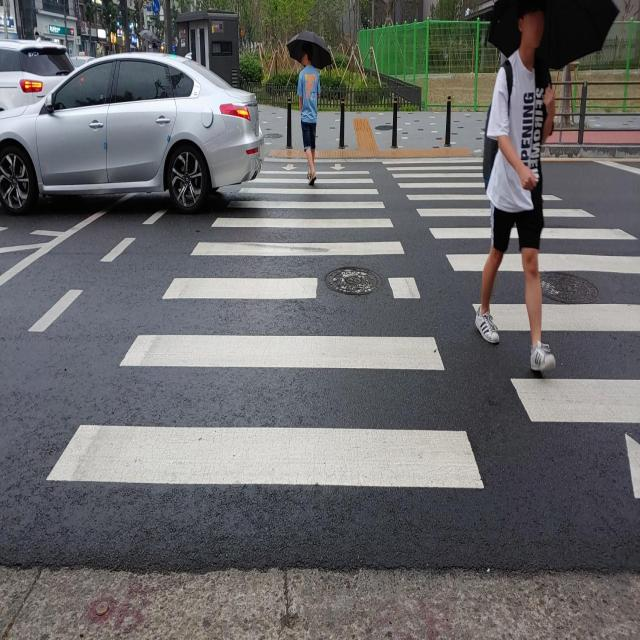횡단보도: (42, 153, 640, 508)
